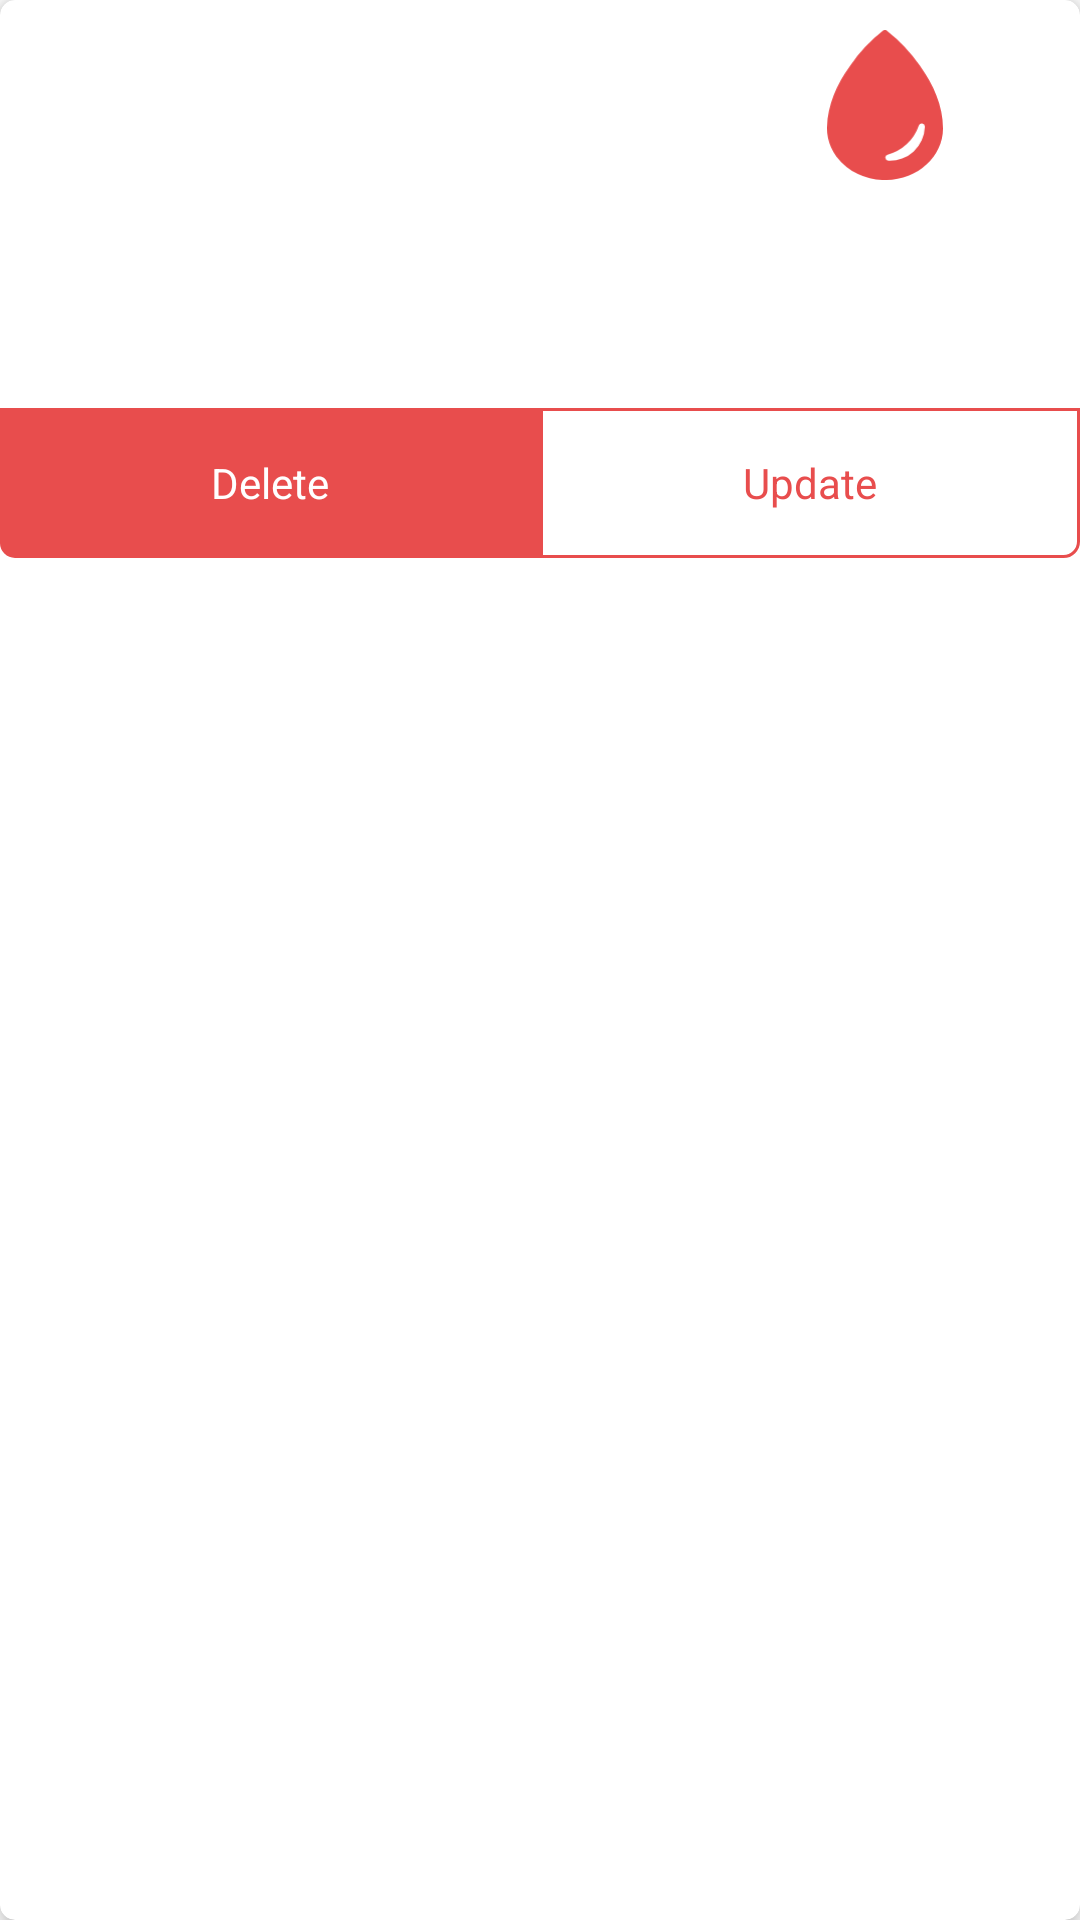

Named icons in this screenshot (1080×1920) and their centers, (x,y):
blood: (885,105)
